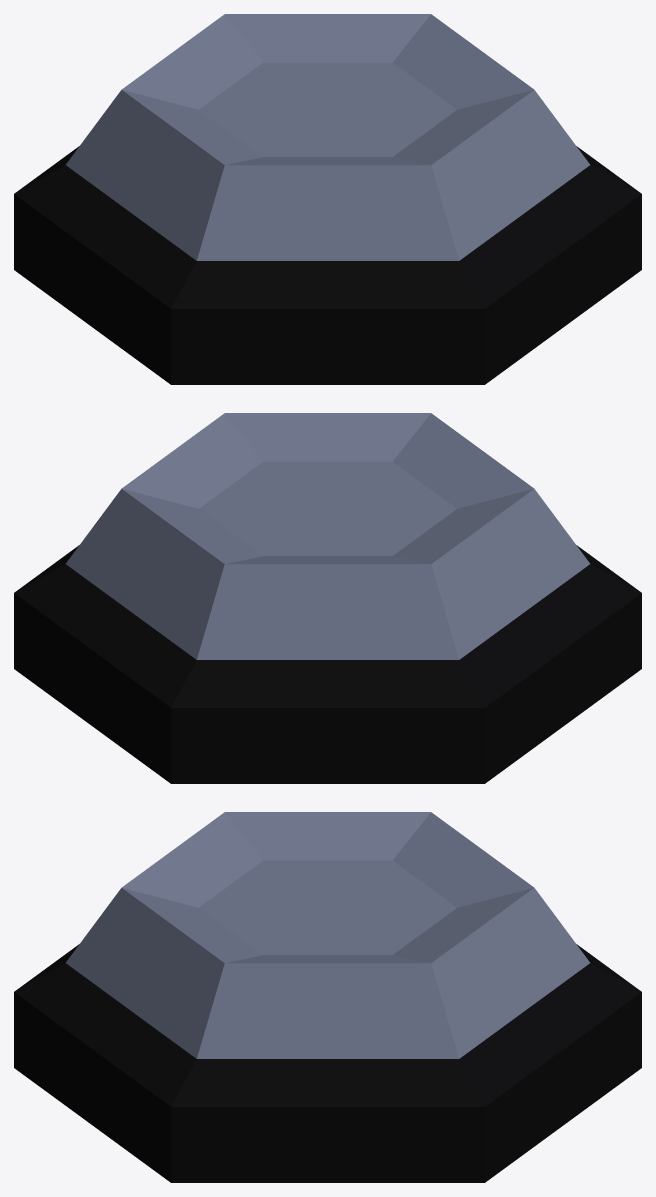
File: Greasley_Glider.fbx
3 views of the same model, one above another, from view 1: azimuth 30°, elevation 25°; view 2: azimuth 150°, elevation 25°; view 3: azimuth 270°, elevation 25° (orthographic).
Parts seen in each view (by area): view 1: Glider; view 2: Glider; view 3: Glider.
Part boxes in pixels (left/top/right/bottom): Glider: left=14, top=14, right=641, bottom=384; Glider: left=14, top=413, right=641, bottom=783; Glider: left=14, top=812, right=641, bottom=1182.
Bounding box in the file's own units: 136 × 49.63 × 157.
